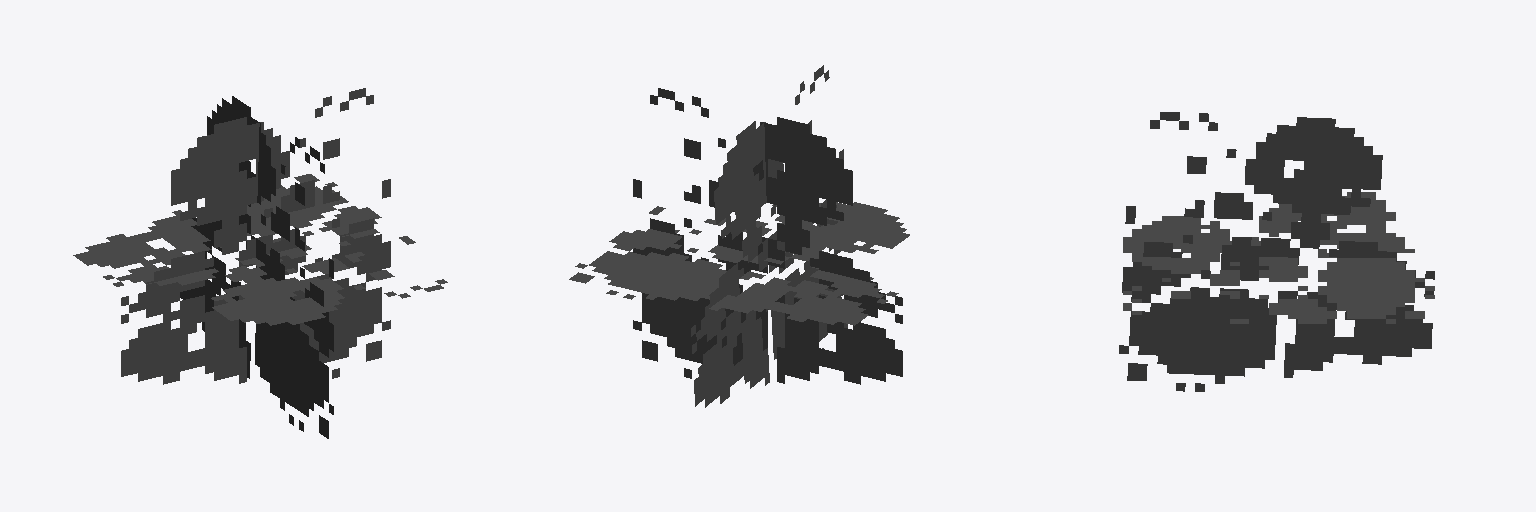
3 views of the same model, side by side, from view 1: azimuth 30°, elevation 25°; view 2: azimuth 150°, elevation 25°; view 3: azimuth 270°, elevation 25° (orthographic).
Parts seen in each view (by area): view 1: Plane; view 2: Plane; view 3: Plane.
Part boxes in pixels (x1,y1,x2,y2): Plane: (73,88,447,438); Plane: (569,65,909,407); Plane: (1119,112,1434,391).
Bounding box in the file's own units: 2 × 2.09 × 2.09.
Materials: 1 (1 with a texture image).